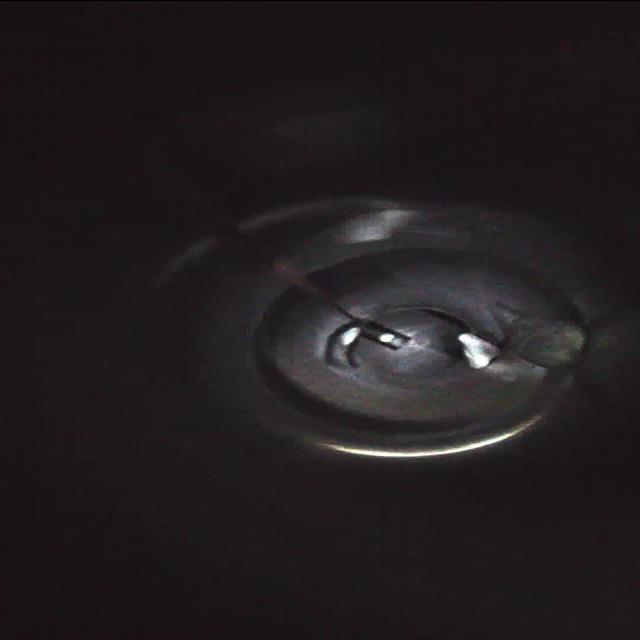impurity: (504, 319, 585, 366), (457, 332, 502, 369)
